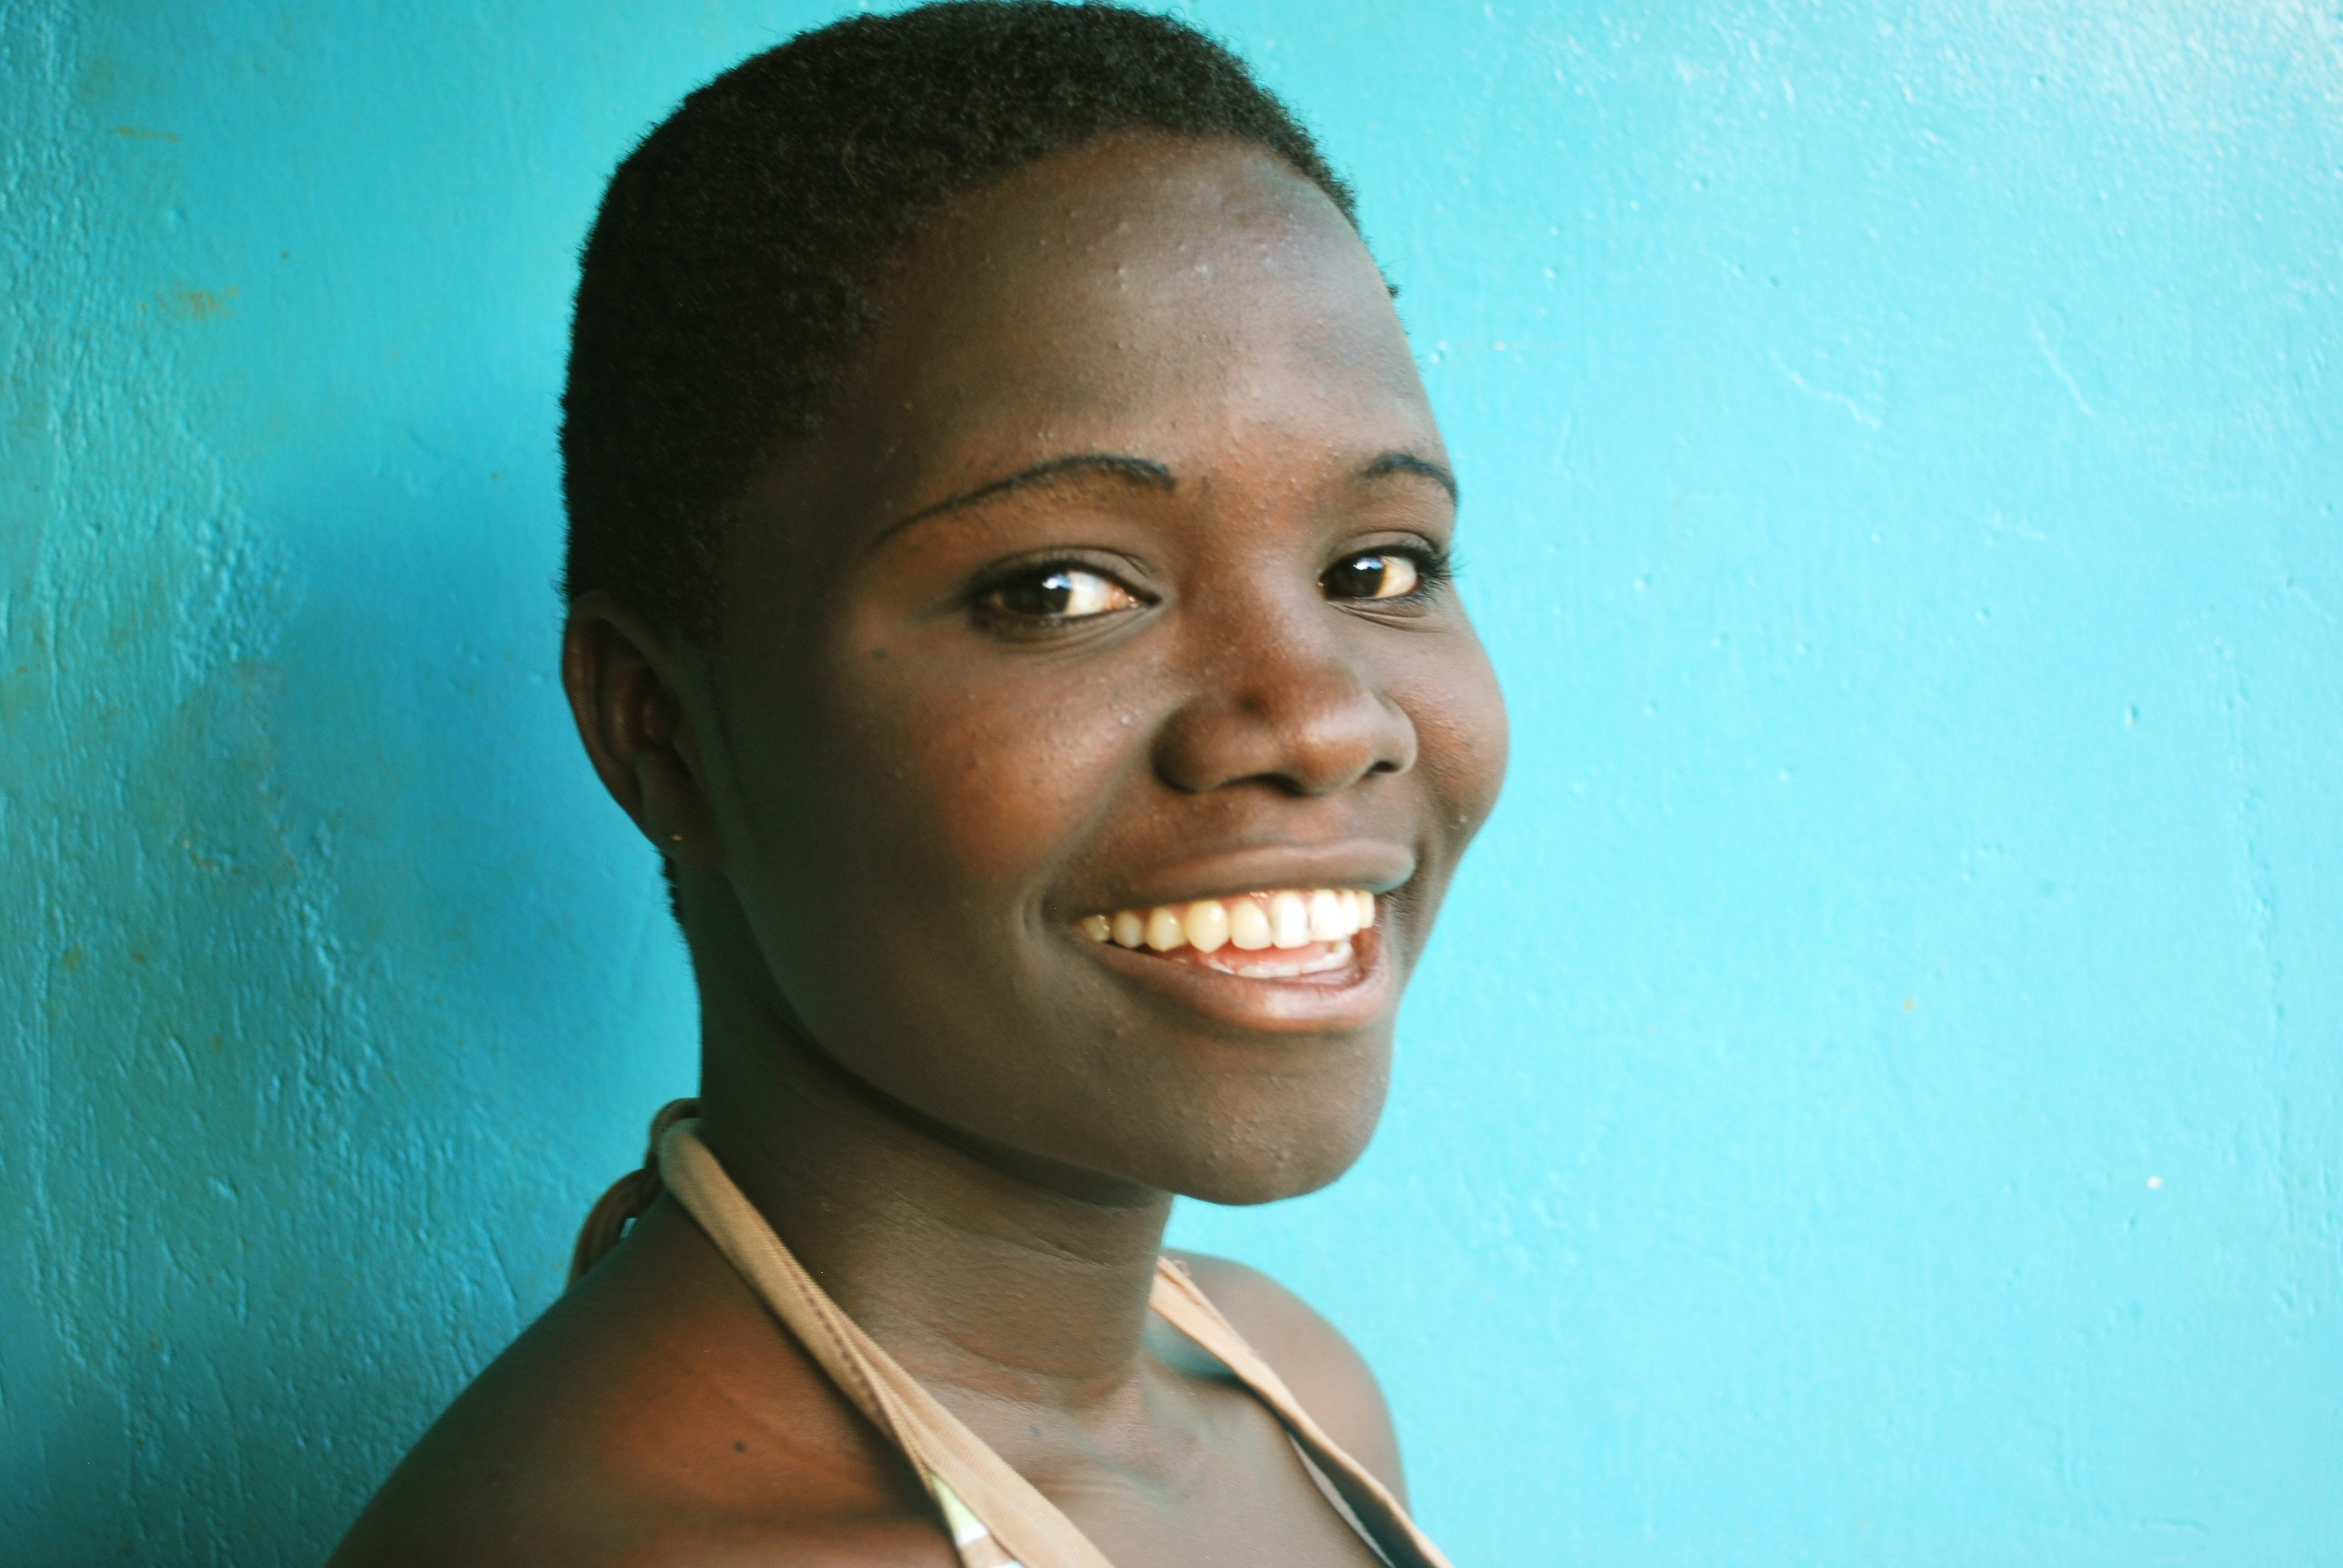face_no_mask: (565, 0, 1507, 1207)
